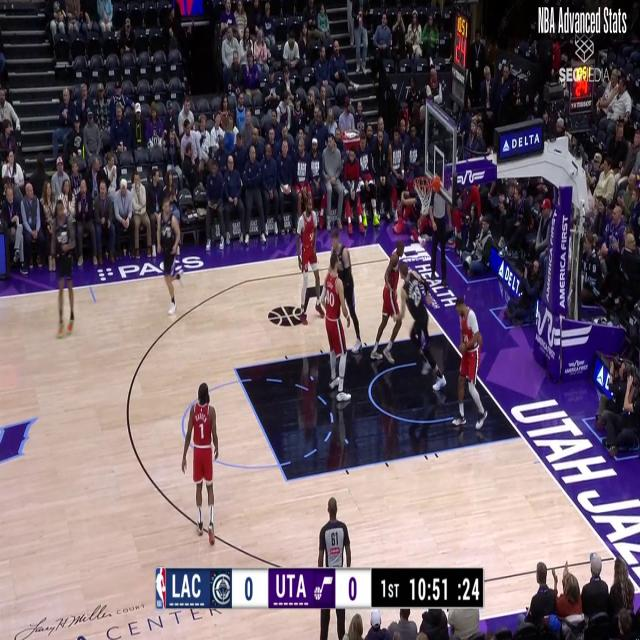judge: (318, 496, 350, 630), (428, 175, 451, 286)
player: (398, 266, 443, 391), (181, 387, 217, 540), (319, 254, 350, 400), (454, 297, 487, 434), (329, 230, 364, 354), (369, 251, 402, 364), (52, 199, 76, 349), (295, 190, 322, 323), (50, 202, 77, 335), (156, 198, 183, 316)
